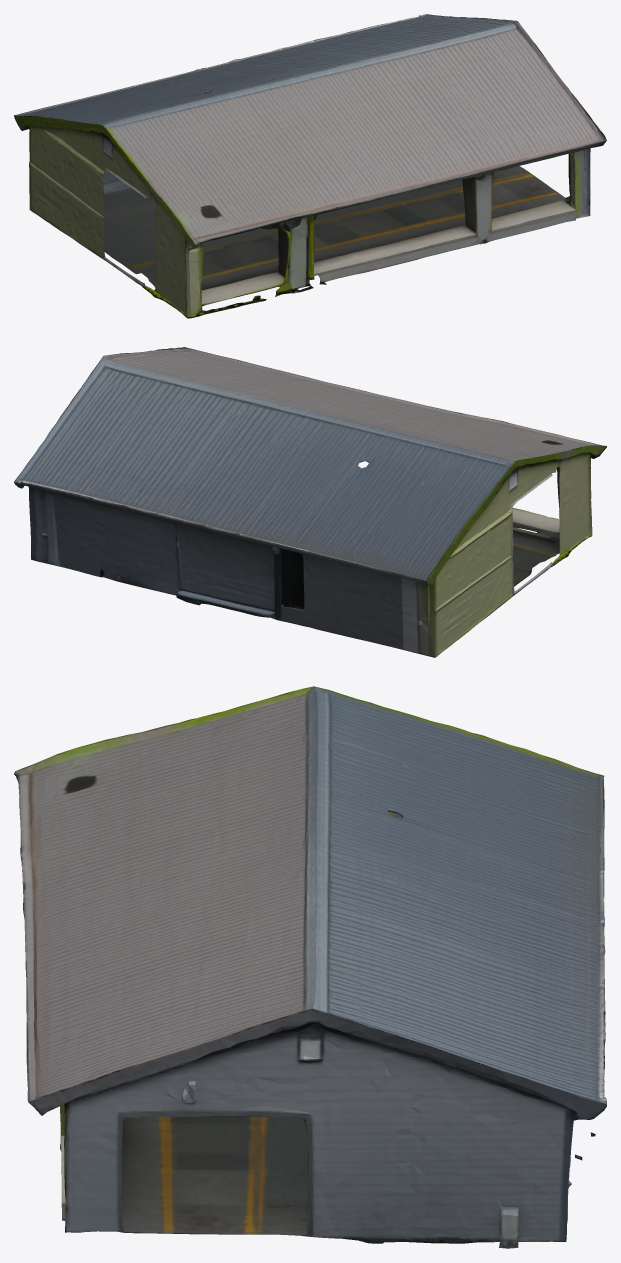
File: RaceTrackBuilding2.glb
The picture shows the model from 3 angles, top to bottom: view 1: azimuth 30°, elevation 25°; view 2: azimuth 150°, elevation 25°; view 3: azimuth 270°, elevation 25°; orthographic projection. The views are drawn at different scales.
Parts seen in each view (by area): view 1: world.001; view 2: world.001; view 3: world.001.
Part boxes in pixels (x1,y1,x2,y2): world.001: [14, 14, 606, 318]; world.001: [14, 347, 606, 657]; world.001: [14, 686, 606, 1248].
Bounding box in the file's own units: 0.9632 × 0.3212 × 0.723.
1 material, 1 textured.
